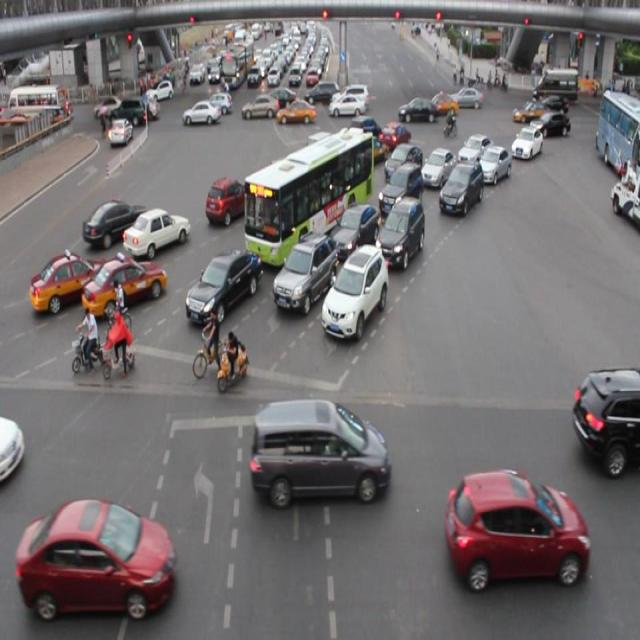car: (19, 501, 174, 617), (448, 470, 584, 588), (572, 367, 640, 470), (322, 244, 387, 341), (84, 254, 165, 315), (187, 256, 261, 314), (274, 240, 336, 304), (32, 256, 110, 306), (376, 196, 423, 266), (126, 207, 190, 258), (85, 200, 146, 249), (330, 201, 379, 258), (438, 159, 482, 216), (377, 162, 419, 214), (288, 155, 336, 199), (204, 179, 248, 224), (261, 157, 301, 200), (340, 130, 385, 167), (385, 141, 421, 185), (420, 148, 456, 189), (0, 413, 22, 477), (477, 144, 508, 187), (457, 133, 489, 169), (344, 116, 376, 151), (509, 124, 540, 158), (380, 120, 409, 150)
truck: (251, 399, 388, 506), (303, 130, 338, 170)
van: (245, 130, 372, 264)
